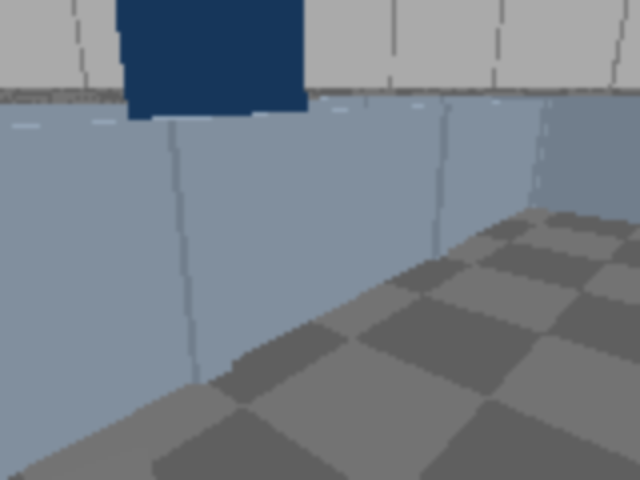obstacle: (2, 446, 187, 478)
